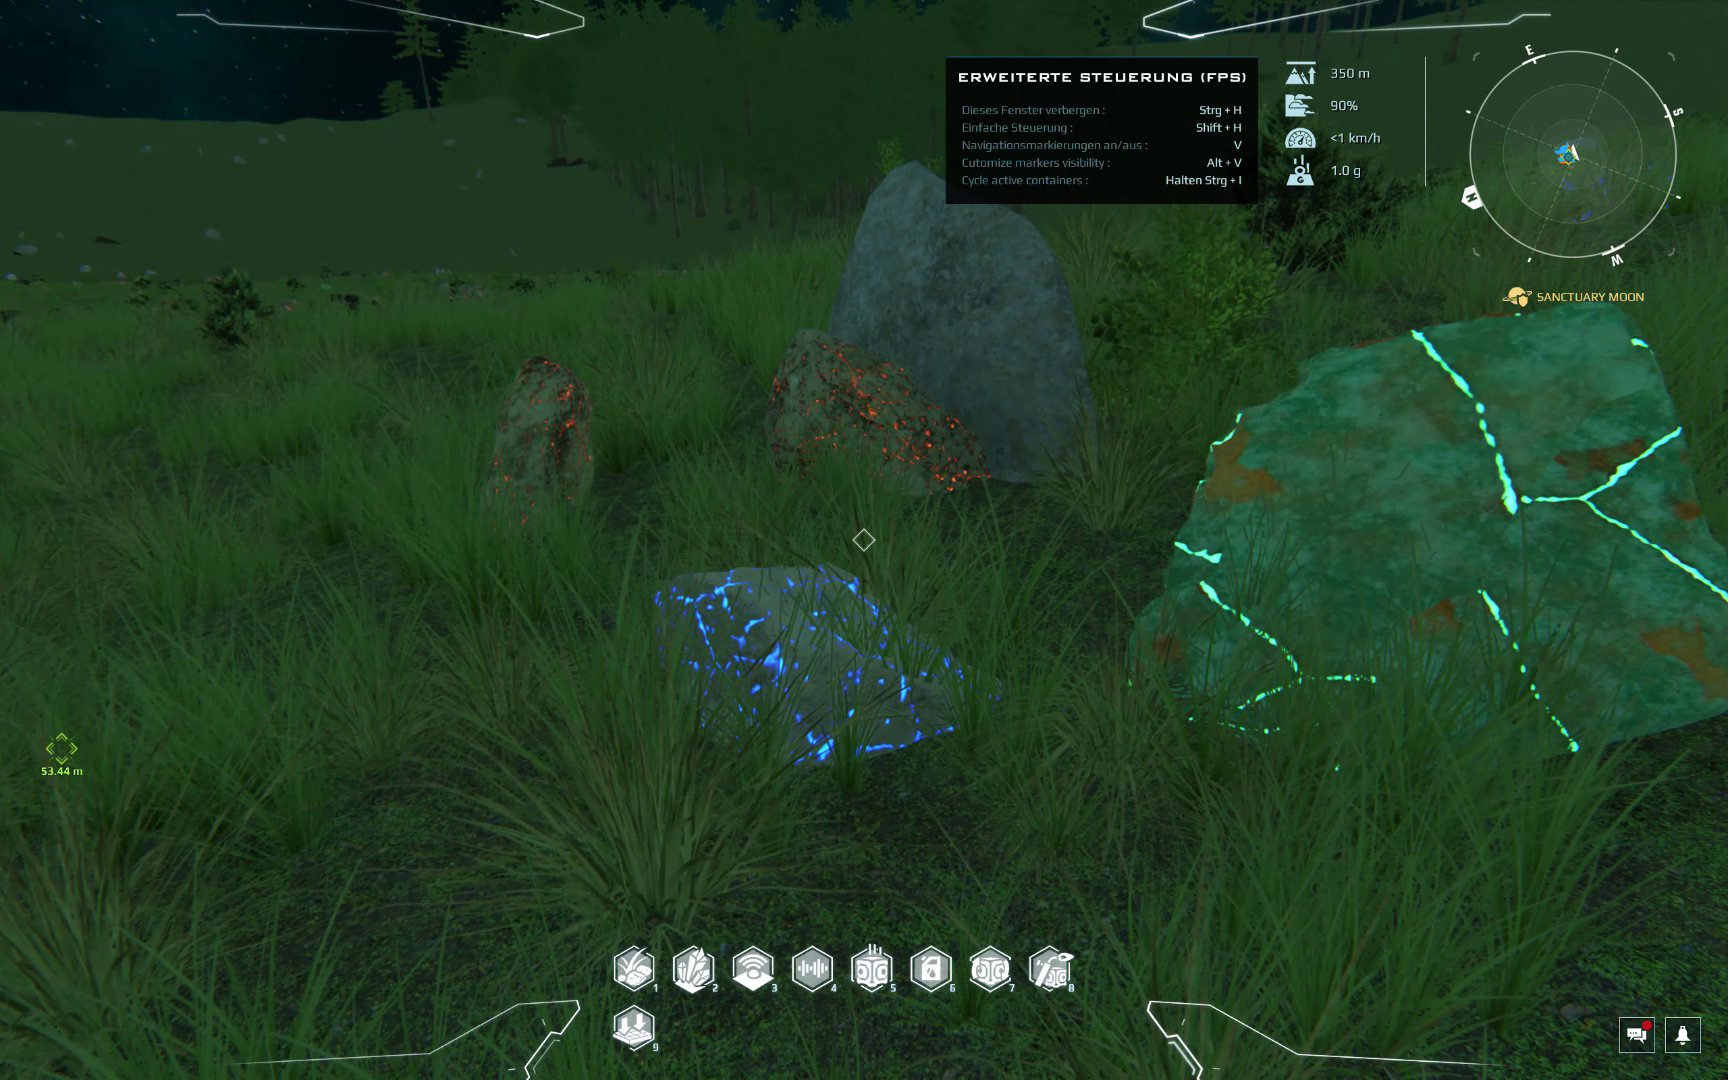Ore: (1123, 296, 1728, 769), (639, 562, 1006, 765), (755, 327, 993, 500), (494, 351, 597, 534)
